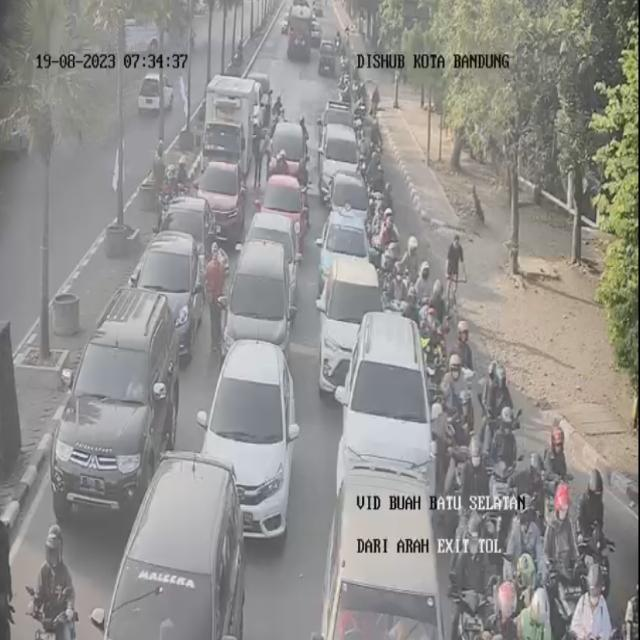cars: (54, 285, 173, 521), (93, 458, 243, 640), (338, 302, 439, 524), (198, 336, 299, 542), (327, 490, 446, 639), (318, 252, 386, 388), (220, 233, 296, 353), (136, 229, 203, 347), (249, 210, 304, 298), (163, 190, 217, 270), (322, 208, 371, 295), (199, 157, 242, 236), (259, 174, 307, 243), (318, 121, 358, 197), (330, 167, 370, 243), (272, 120, 307, 188), (322, 98, 355, 144), (249, 68, 273, 116), (317, 38, 334, 78)
motorcycle: (31, 520, 80, 640), (546, 483, 584, 637), (448, 518, 489, 640), (567, 559, 615, 640), (462, 434, 492, 538), (494, 404, 527, 496), (541, 424, 569, 522), (576, 474, 602, 566), (512, 580, 550, 640), (485, 354, 514, 425), (518, 454, 542, 539), (443, 358, 470, 432), (364, 164, 390, 238), (492, 582, 520, 640), (427, 321, 448, 394), (385, 260, 410, 316), (512, 550, 535, 606), (422, 316, 442, 378), (427, 276, 448, 335), (377, 205, 396, 268), (453, 318, 472, 378), (414, 262, 433, 318), (402, 232, 420, 289), (270, 89, 284, 126)
truck: (205, 74, 263, 185)
